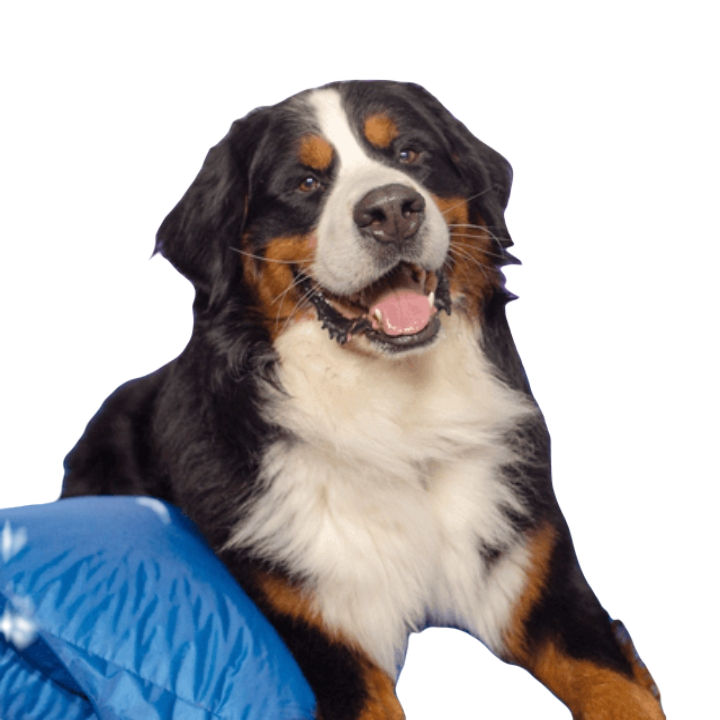Dog: (57, 83, 662, 719)
